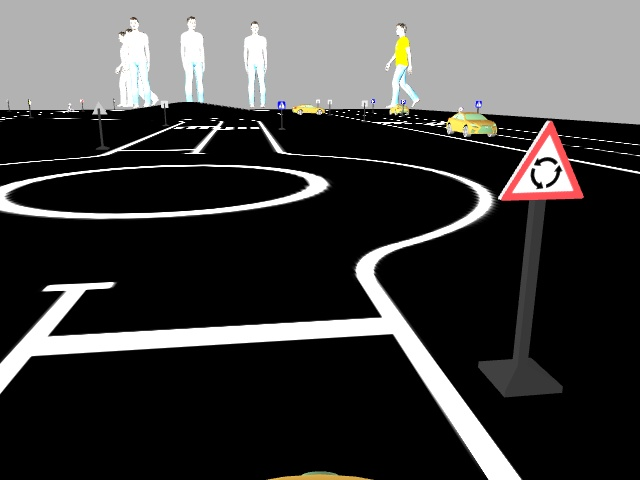Roundabout: (491, 120, 586, 202)
